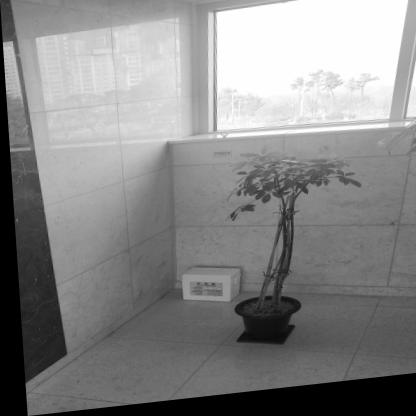DDL: (176, 267, 236, 310)
